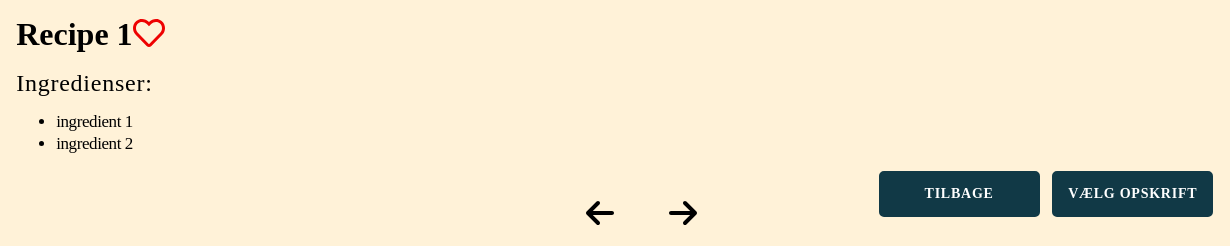
Test: Recipe changes after pressing arrow right
Expected: the heading "Recipe 1" is shown, [16,16,165,52]
Click the picture with test id "selectArrowRight" at (683, 213), box [669,197,697,229]
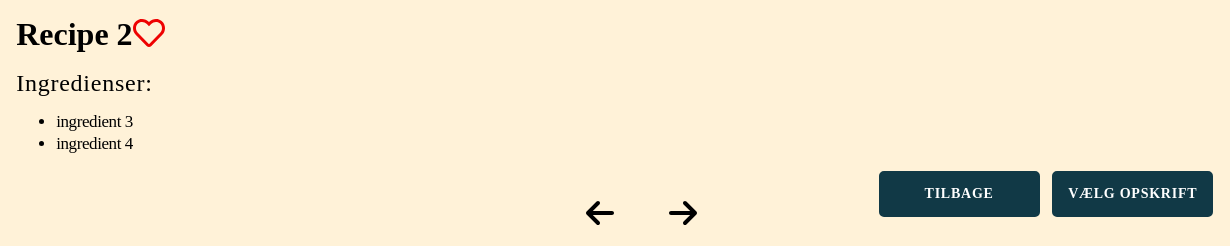
Expected: the heading "Recipe 2" is shown, [16,16,165,52]
